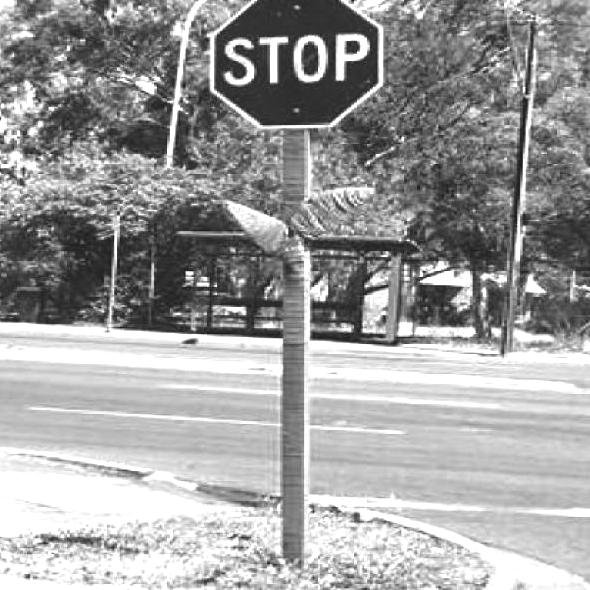stop_sign: (210, 0, 386, 129)
